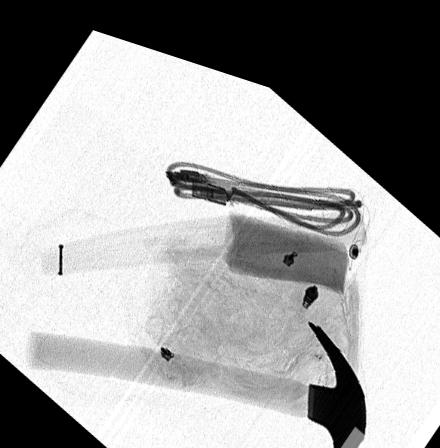Hammer: (27, 300, 366, 448)
